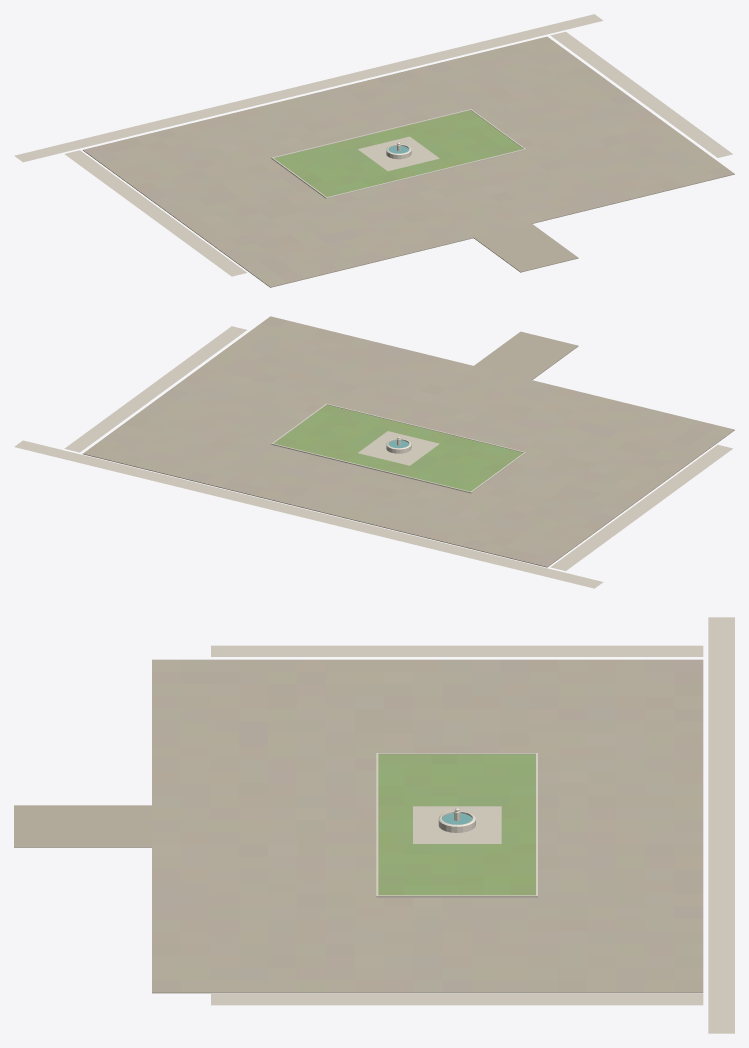
Rendered from SM_BM_BHip_StableYard.glb.
3 renders of one model, top to bottom at view 1: azimuth 30°, elevation 25°; view 2: azimuth 150°, elevation 25°; view 3: azimuth 270°, elevation 25°, orthographic. The views are drawn at different scales.
Visible parts, largest first — view 1: SM_BM_BHip_StableYard; view 2: SM_BM_BHip_StableYard; view 3: SM_BM_BHip_StableYard.
Boxes of the visible parts, left/top/right/bottom form: SM_BM_BHip_StableYard: left=14, top=14, right=734, bottom=287; SM_BM_BHip_StableYard: left=14, top=316, right=734, bottom=588; SM_BM_BHip_StableYard: left=14, top=617, right=734, bottom=1033.
Size of the model in its own units: 100 by 2.1 by 73.2.
